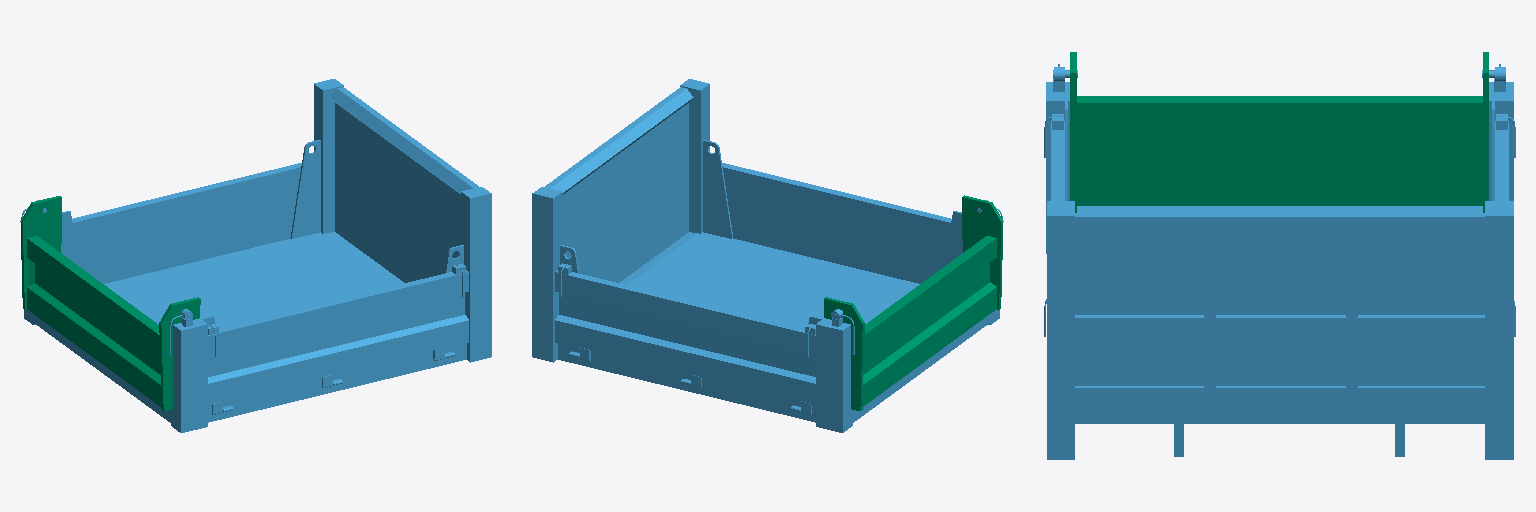
robot.urdf — c30r:
<?xml version="1.0" ?>
<!-- =================================================================================== -->
<!-- |    This document was autogenerated by xacro from c30r.xacro                     | -->
<!-- |    EDITING THIS FILE BY HAND IS NOT RECOMMENDED                                 | -->
<!-- =================================================================================== -->
<robot name="c30r">
  <!-- Import all Gazebo-customization elements, including Gazebo colors -->
  <!-- <xacro:include filename="$(find ic120_description)/urdf/ic120.gazebo" /> -->
  <!-- Import Rviz colors -->
  <!-- <xacro:include filename="$(find ic120_description)/urdf/materials.xacro" /> -->
  <!-- Base Link -->
  <link name="base_link">
    <visual>
      <geometry>
        <mesh filename="package://meshes/c30r-body.dae"/>
      </geometry>
    </visual>
    <inertial>
      <origin rpy="0 0 0" xyz="0 0 0"/>
      <mass value="0.1"/>
      <inertia ixx="1.0" ixy="0.0" ixz="0.0" iyy="1.0" iyz="0.0" izz="1.0"/>
    </inertial>
  </link>
  <!-- left sprocket axis -->
  <!--
	<joint name="sprocket_left_joint" type="continuous">
		<origin xyz="-2.35 1 0.65"/>
		<axis xyz="0 1 0"/>
		<parent link="base_link"/>
		<child link="left_sprocket_link"/>
	</joint>
	<link name="left_sprocket_link"/> 
	-->
  <!-- right sprocket axis -->
  <!--
	<joint name="sprocket_right_joint" type="continuous">
		<origin xyz="-2.35 -1 0.65"/>
		<axis xyz="0 1 0"/>
		<parent link="base_link"/>
		<child link="right_sprocket_link"/>
	</joint>
	<link name="right_sprocket_link"/> 
	-->
  <!-- vessel axis -->
  <joint name="vessel_pin_joint" type="revolute">
    <origin xyz="-1.2458 0 0.67135"/>
    <axis xyz="0 1 0"/>
    <parent link="base_link"/>
    <child link="vessel_link"/>
    <limit effort="30" lower="-1.0122909661567112" upper="0" velocity="6.159937255"/>
  </joint>
  <link name="vessel_link">
    <visual>
      <geometry>
        <mesh filename="package://meshes/c30r-vessel1.dae"/>
      </geometry>
    </visual>
    <inertial>
      <origin rpy="0 0 0" xyz="0 0 0"/>
      <mass value="0.1"/>
      <inertia ixx="1.0" ixy="0.0" ixz="0.0" iyy="1.0" iyz="0.0" izz="1.0"/>
    </inertial>
  </link>
  <joint name="tailgate_joint" type="continuous">
    <origin xyz="-0.24718 0 0.66873"/>
    <axis xyz="0 1 0"/>
    <parent link="vessel_link"/>
    <child link="tailgate_link"/>
    <mimic joint="vessel_pin_joint" multiplier="-1"/>
  </joint>
  <link name="tailgate_link">
    <visual>
      <geometry>
        <mesh filename="package://meshes/c30r-vessel2.dae"/>
      </geometry>
    </visual>
    <inertial>
      <origin rpy="0 0 0" xyz="0 0 0"/>
      <mass value="0.1"/>
      <inertia ixx="1.0" ixy="0.0" ixz="0.0" iyy="1.0" iyz="0.0" izz="1.0"/>
    </inertial>
  </link>
 
  <transmission name="tran1">
    <type>transmission_interface/SimpleTransmission</type>
    <joint name="vessel_pin_joint">
      <hardwareInterface>hardware_interface/EffortJointInterface</hardwareInterface>
    </joint>
    <actuator name="vessel_pin_joint_motor">
      <hardwareInterface>hardware_interface/EffortJointInterface</hardwareInterface>
      <mechanicalReduction>1</mechanicalReduction>
    </actuator>
  </transmission>

  <joint name="left_middle_wheel_joint" type="continuous">
    <origin rpy="-1.5707963267948966 0 0" xyz="-0.05 0.615 0.25"/>
    <parent link="base_link"/>
    <child link="left_middle_wheel_link"/>
    <axis xyz="0 0 1"/>
  </joint>
  <transmission name="left_middle_wheel_trans" type="SimpleTransmission">
    <type>transmission_interface/SimpleTransmission</type>
    <actuator name="left_middle_wheel_motor">
      <mechanicalReduction>1</mechanicalReduction>
    </actuator>
    <joint name="left_middle_wheel_joint">
      <hardwareInterface>hardware_interface/VelocityJointInterface</hardwareInterface>
    </joint>
  </transmission>
  <link name="left_middle_wheel_link">
    <inertial>
      <origin rpy="0 0 0" xyz="0 0 0"/>
      <mass value="10"/>
      <inertia ixx="5" ixy="0.0" ixz="0.0" iyy="5" iyz="0.0" izz="5"/>
    </inertial>
    <!-- <visual>
        <geometry>
          <cylinder radius="0.5" length="0.5" />
        </geometry>
      </visual> -->
    <collision>
      <geometry>
        <cylinder length="0.1" radius="0.25"/>
      </geometry>
    </collision>
  </link>
  <gazebo reference="left_middle_wheel_link">
    <!--material>Gazebo/Red</material-->
    <mu1 value="0.7"/>
    <mu2 value="0.6"/>
    <kp value="7.5e+5"/>
    <kd value="0.001"/>
  </gazebo>
  <joint name="left_front_wheel_joint" type="continuous">
    <origin rpy="-1.5707963267948966 0 0" xyz="0.6 0.615 0.25"/>
    <parent link="base_link"/>
    <child link="left_front_wheel_link"/>
    <axis xyz="0 0 1"/>
  </joint>
  <transmission name="left_front_wheel_trans" type="SimpleTransmission">
    <type>transmission_interface/SimpleTransmission</type>
    <actuator name="left_front_wheel_motor">
      <mechanicalReduction>1</mechanicalReduction>
    </actuator>
    <joint name="left_front_wheel_joint">
      <hardwareInterface>hardware_interface/VelocityJointInterface</hardwareInterface>
    </joint>
  </transmission>
  <link name="left_front_wheel_link">
    <inertial>
      <origin rpy="0 0 0" xyz="0 0 0"/>
      <mass value="10"/>
      <inertia ixx="5" ixy="0.0" ixz="0.0" iyy="5" iyz="0.0" izz="5"/>
    </inertial>
    <!-- <visual>
        <geometry>
          <cylinder radius="0.5" length="0.5" />
        </geometry>
      </visual> -->
    <collision>
      <geometry>
        <cylinder length="0.1" radius="0.25"/>
      </geometry>
    </collision>
  </link>
  <gazebo reference="left_front_wheel_link">
    <!--material>Gazebo/Red</material-->
    <mu1 value="0.7"/>
    <mu2 value="0.6"/>
    <kp value="7.5e+5"/>
    <kd value="0.001"/>
  </gazebo>

  <joint name="left_rear_wheel_joint" type="continuous">
    <origin rpy="-1.5707963267948966 0 0" xyz="-0.7 0.615 0.25"/>
    <parent link="base_link"/>
    <child link="left_rear_wheel_link"/>
    <axis xyz="0 0 1"/>
  </joint>
  <transmission name="left_rear_wheel_trans" type="SimpleTransmission">
    <type>transmission_interface/SimpleTransmission</type>
    <actuator name="left_rear_wheel_motor">
      <mechanicalReduction>1</mechanicalReduction>
    </actuator>
    <joint name="left_rear_wheel_joint">
      <hardwareInterface>hardware_interface/VelocityJointInterface</hardwareInterface>
    </joint>
  </transmission>
  <link name="left_rear_wheel_link">
    <inertial>
      <origin rpy="0 0 0" xyz="0 0 0"/>
      <mass value="10"/>
      <inertia ixx="5" ixy="0.0" ixz="0.0" iyy="5" iyz="0.0" izz="5"/>
    </inertial>
    <!-- <visual>
        <geometry>
          <cylinder radius="0.5" length="0.5" />
        </geometry>
      </visual> -->
    <collision>
      <geometry>
        <cylinder length="0.1" radius="0.25"/>
      </geometry>
    </collision>
  </link>
  <gazebo reference="left_rear_wheel_link">
    <!--material>Gazebo/Red</material-->
    <mu1 value="0.7"/>
    <mu2 value="0.6"/>
    <kp value="7.5e+5"/>
    <kd value="0.001"/>
  </gazebo>
  <joint name="right_middle_wheel_joint" type="continuous">
    <origin rpy="-1.5707963267948966 0 0" xyz="-0.05 -0.615 0.25"/>
    <parent link="base_link"/>
    <child link="right_middle_wheel_link"/>
    <axis xyz="0 0 1"/>
  </joint>
  <transmission name="right_middle_wheel_trans" type="SimpleTransmission">
    <type>transmission_interface/SimpleTransmission</type>
    <actuator name="right_middle_wheel_motor">
      <mechanicalReduction>1</mechanicalReduction>
    </actuator>
    <joint name="right_middle_wheel_joint">
      <hardwareInterface>hardware_interface/VelocityJointInterface</hardwareInterface>
    </joint>
  </transmission>
  <link name="right_middle_wheel_link">
    <inertial>
      <origin rpy="0 0 0" xyz="0 0 0"/>
      <mass value="10"/>
      <inertia ixx="5" ixy="0.0" ixz="0.0" iyy="5" iyz="0.0" izz="5"/>
    </inertial>
    <!-- <visual>
        <geometry>
          <cylinder radius="0.5" length="0.5" />
        </geometry>
      </visual> -->
    <collision>
      <geometry>
        <cylinder length="0.1" radius="0.25"/>
      </geometry>
    </collision>
  </link>
  <gazebo reference="right_middle_wheel_link">
    <!--material>Gazebo/Red</material-->
    <mu1 value="0.7"/>
    <mu2 value="0.6"/>
    <kp value="7.5e+5"/>
    <kd value="0.001"/>
  </gazebo>
  <joint name="right_front_wheel_joint" type="continuous">
    <origin rpy="-1.5707963267948966 0 0" xyz="0.6 -0.615 0.25"/>
    <parent link="base_link"/>
    <child link="right_front_wheel_link"/>
    <axis xyz="0 0 1"/>
  </joint>
  <transmission name="right_front_wheel_trans" type="SimpleTransmission">
    <type>transmission_interface/SimpleTransmission</type>
    <actuator name="right_front_wheel_motor">
      <mechanicalReduction>1</mechanicalReduction>
    </actuator>
    <joint name="right_front_wheel_joint">
      <hardwareInterface>hardware_interface/VelocityJointInterface</hardwareInterface>
    </joint>
  </transmission>
  <link name="right_front_wheel_link">
    <inertial>
      <origin rpy="0 0 0" xyz="0 0 0"/>
      <mass value="10"/>
      <inertia ixx="5" ixy="0.0" ixz="0.0" iyy="5" iyz="0.0" izz="5"/>
    </inertial>
    <!-- <visual>
        <geometry>
          <cylinder radius="0.5" length="0.5" />
        </geometry>
      </visual> -->
    <collision>
      <geometry>
        <cylinder length="0.1" radius="0.25"/>
      </geometry>
    </collision>
  </link>
  <gazebo reference="right_front_wheel_link">
    <!--material>Gazebo/Red</material-->
    <mu1 value="0.7"/>
    <mu2 value="0.6"/>
    <kp value="7.5e+5"/>
    <kd value="0.001"/>
  </gazebo>

  <joint name="right_rear_wheel_joint" type="continuous">
    <origin rpy="-1.5707963267948966 0 0" xyz="-0.7 -0.615 0.25"/>
    <parent link="base_link"/>
    <child link="right_rear_wheel_link"/>
    <axis xyz="0 0 1"/>
  </joint>
  <transmission name="right_rear_wheel_trans" type="SimpleTransmission">
    <type>transmission_interface/SimpleTransmission</type>
    <actuator name="right_rear_wheel_motor">
      <mechanicalReduction>1</mechanicalReduction>
    </actuator>
    <joint name="right_rear_wheel_joint">
      <hardwareInterface>hardware_interface/VelocityJointInterface</hardwareInterface>
    </joint>
  </transmission>
  <link name="right_rear_wheel_link">
    <inertial>
      <origin rpy="0 0 0" xyz="0 0 0"/>
      <mass value="10"/>
      <inertia ixx="5" ixy="0.0" ixz="0.0" iyy="5" iyz="0.0" izz="5"/>
    </inertial>
    <!-- <visual>
        <geometry>
          <cylinder radius="0.5" length="0.5" />
        </geometry>
      </visual> -->
    <collision>
      <geometry>
        <cylinder length="0.1" radius="0.25"/>
      </geometry>
    </collision>
  </link>
  <gazebo reference="right_rear_wheel_link">
    <!--material>Gazebo/Red</material-->
    <mu1 value="0.7"/>
    <mu2 value="0.6"/>
    <kp value="7.5e+5"/>
    <kd value="0.001"/>
  </gazebo>

  <disable_collision link1="base_link" link2="vessel_link"></disable_collision>
  <disable_collision link1="vessel_link" link2="tailgate_link"></disable_collision>
</robot>

--- What the picture shows (computed from the rendered views, not written in the file) ---
The picture shows the robot from 3 angles, left to right: view 1: azimuth 30°, elevation 25°; view 2: azimuth 150°, elevation 25°; view 3: azimuth 270°, elevation 25°; orthographic projection.
Robot: c30r — 9 links, 8 joints (1 revolute, 7 continuous); root link base_link; default pose: every joint at zero.
Links seen in each view (by area): view 1: vessel_link, tailgate_link; view 2: vessel_link, tailgate_link; view 3: vessel_link, tailgate_link.
Boxes of the visible links, x1,y1,x2,y2 form: vessel_link: (21,79,491,432); tailgate_link: (20,196,200,411); vessel_link: (532,79,1002,432); tailgate_link: (824,195,1003,410); vessel_link: (1044,64,1515,459); tailgate_link: (1070,52,1488,212).
Bounding box of the posed robot: 1.81 × 1.54 × 0.9723 m (x, y, z).
Meshes: 3 distinct files referenced, 2 mesh visuals loaded (2 Collada DAE); not drawn: 1 (reference not matched to a file when rendering).
